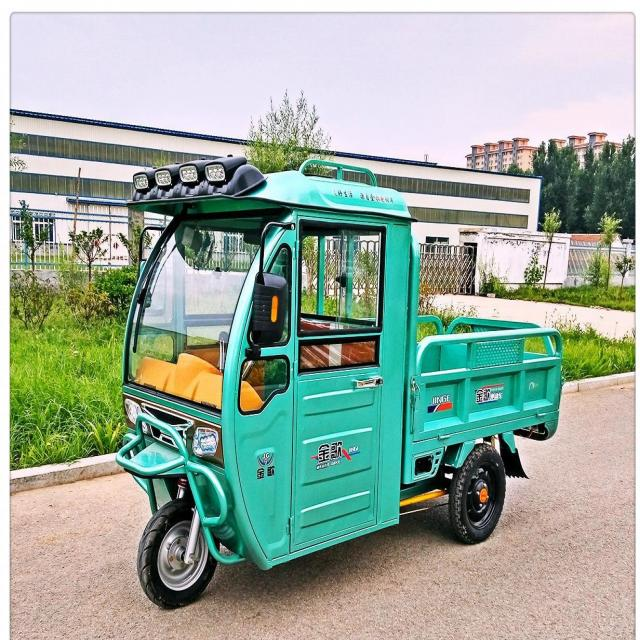tricycle: (111, 159, 566, 612)
